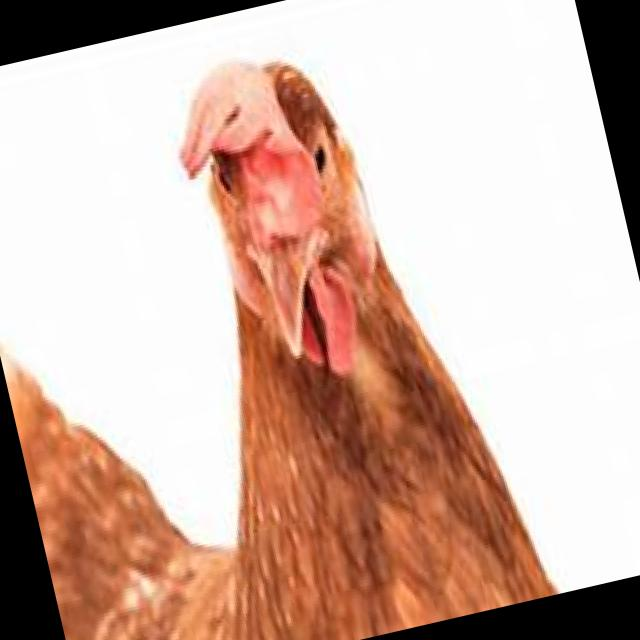animal: (0, 6, 586, 640)
